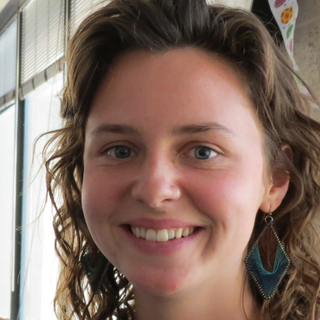eye: (171, 138, 232, 164), (95, 141, 147, 168)
